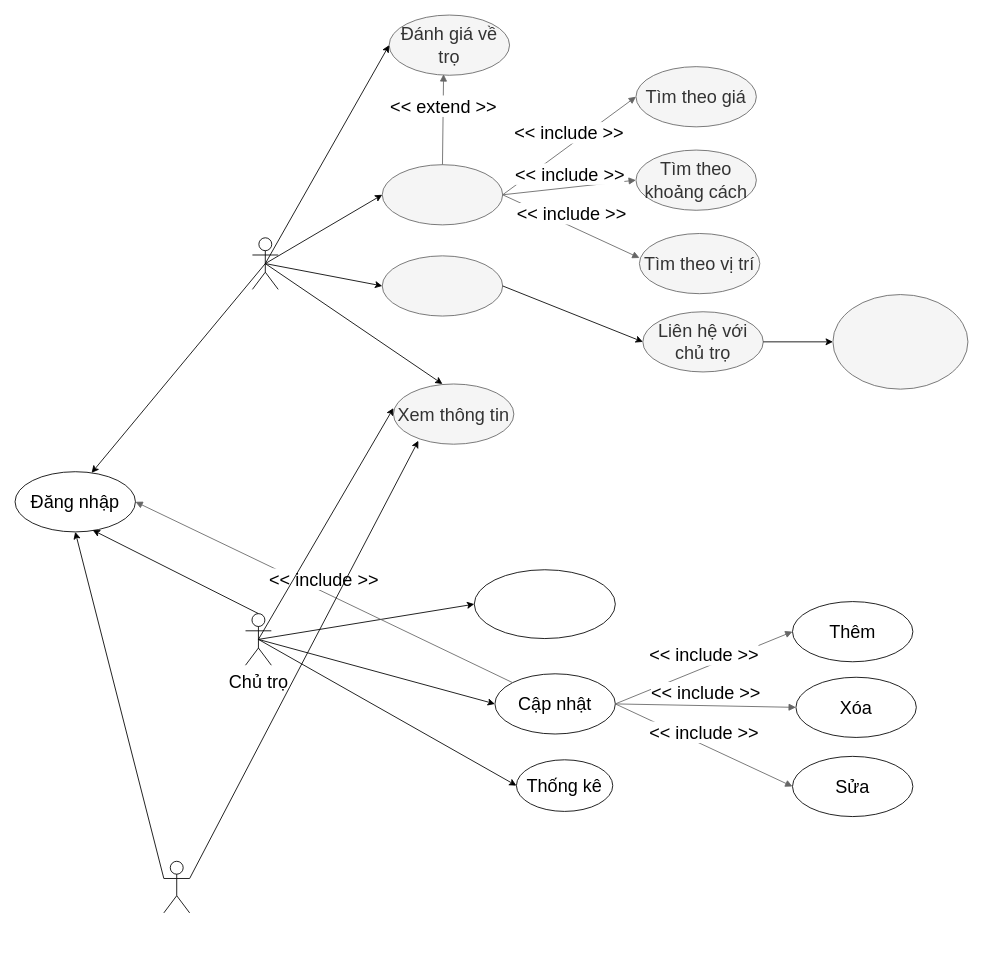
Image size: 983x955. Some labels were removed from this diagram. The shapes that lost their labels are listed below. From the top down, each one's box as (x1, y1, x2, y2) in pixels, then its label:
(381, 164, 503, 225): Tìm thông tin phòng trọ
(252, 237, 278, 289): Sinh viên
(381, 255, 503, 316): Đặt phòng online
(832, 294, 968, 389): Check phòng khi gặp trực tiếp
(473, 569, 615, 639): Đăng thông tin trọ
(163, 860, 190, 913): Quản trị viên
